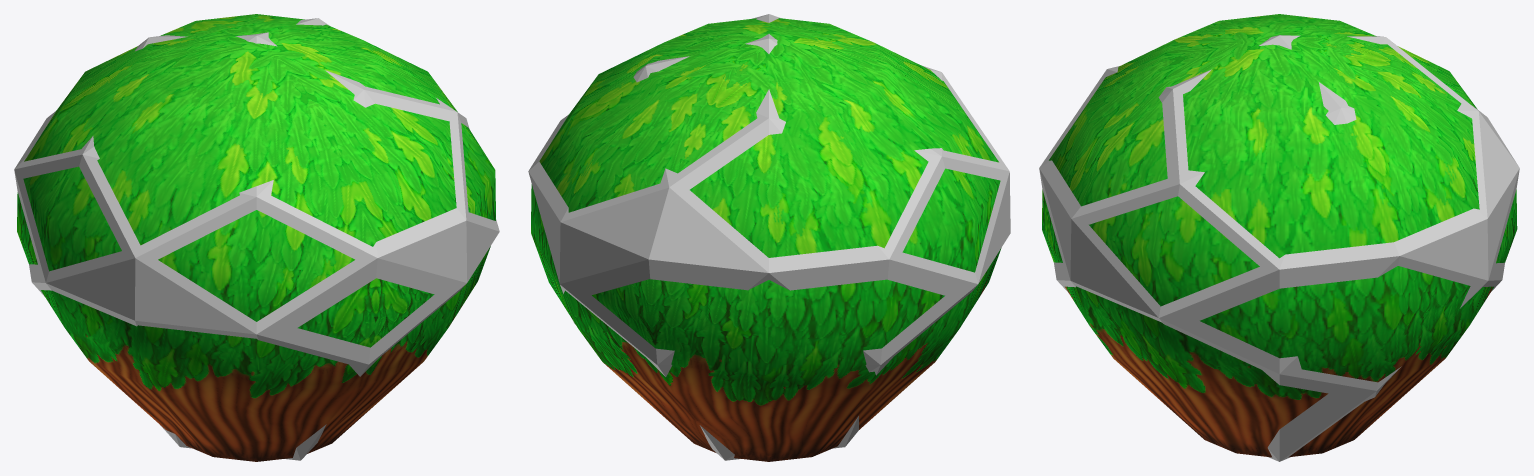
Rendered from SM_Bush02.fbx.
3 views of the same model, side by side, from view 1: azimuth 30°, elevation 25°; view 2: azimuth 150°, elevation 25°; view 3: azimuth 270°, elevation 25° (orthographic).
Visible parts, largest first — view 1: SM_Bush02, SM_Bush02_ConvexHulls; view 2: SM_Bush02, SM_Bush02_ConvexHulls; view 3: SM_Bush02, SM_Bush02_ConvexHulls.
Part boxes in pixels (bbox=[...]): SM_Bush02: bbox=[17, 14, 495, 461]; SM_Bush02_ConvexHulls: bbox=[14, 18, 499, 460]; SM_Bush02: bbox=[531, 18, 1001, 461]; SM_Bush02_ConvexHulls: bbox=[528, 14, 1010, 460]; SM_Bush02: bbox=[1042, 14, 1517, 457]; SM_Bush02_ConvexHulls: bbox=[1039, 35, 1519, 461].
Bounding box in the file's own units: 127 × 127 × 114.
2 materials, 1 textured.
